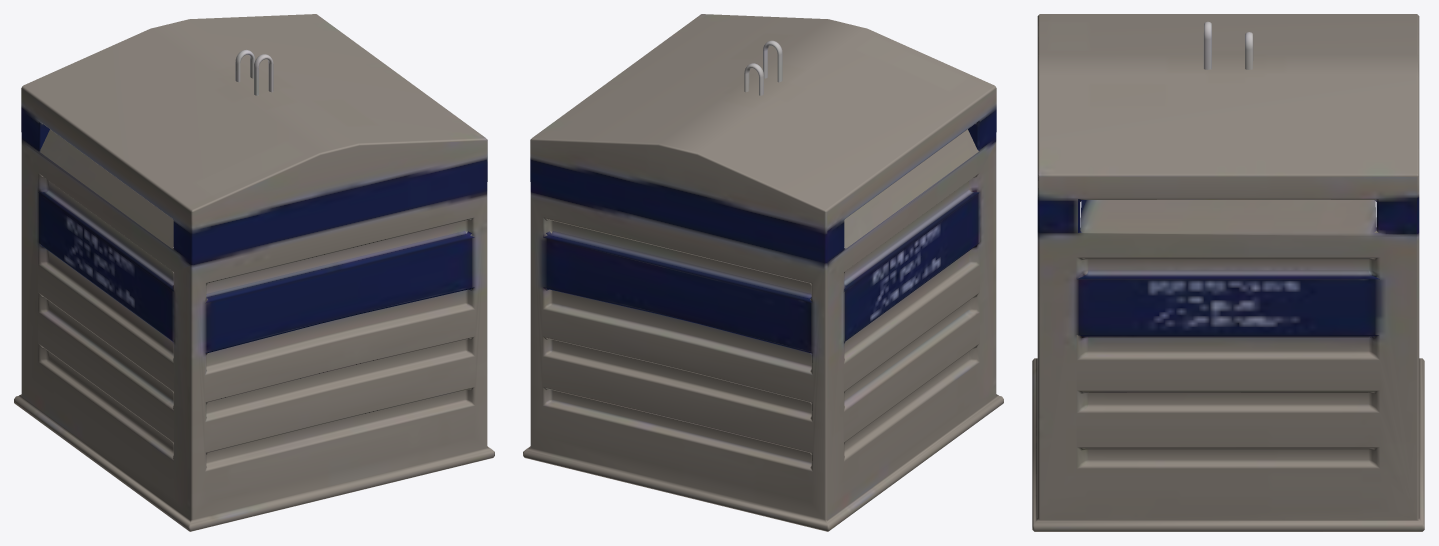
File: bell_b.glb
3 renders of one model, left to right at view 1: azimuth 30°, elevation 25°; view 2: azimuth 150°, elevation 25°; view 3: azimuth 270°, elevation 25°, orthographic. The views are drawn at different scales.
Parts seen in each view (by area): view 1: bell_b; view 2: bell_b; view 3: bell_b.
Boxes of the visible parts, left/top/right/bottom form: bell_b: left=14, top=14, right=494, bottom=531; bell_b: left=523, top=14, right=1003, bottom=531; bell_b: left=1032, top=14, right=1424, bottom=531.
Size of the model in its own units: 1.34 by 1.6 by 1.33.
1 material, 1 textured.
